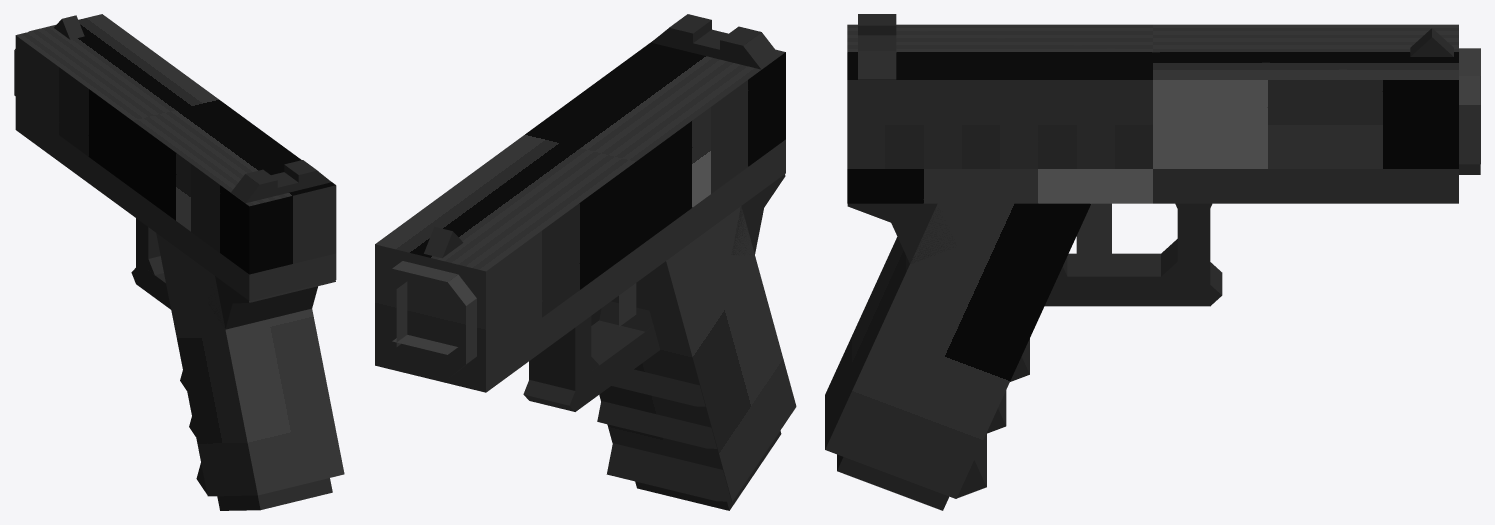
The model's file is mteg_glock_17.glb.
The picture shows the model from 3 angles, left to right: view 1: azimuth 30°, elevation 25°; view 2: azimuth 150°, elevation 25°; view 3: azimuth 270°, elevation 25°; orthographic projection. The views are drawn at different scales.
Visible parts, largest first — view 1: Gun; view 2: Gun; view 3: Gun.
Part boxes in pixels (x1,y1,x2,y2): Gun: [14, 14, 344, 510]; Gun: [375, 14, 796, 510]; Gun: [825, 14, 1480, 510].
Size of the model in its own units: 0.075 by 0.2875 by 0.3751.
1 material, 1 textured.
